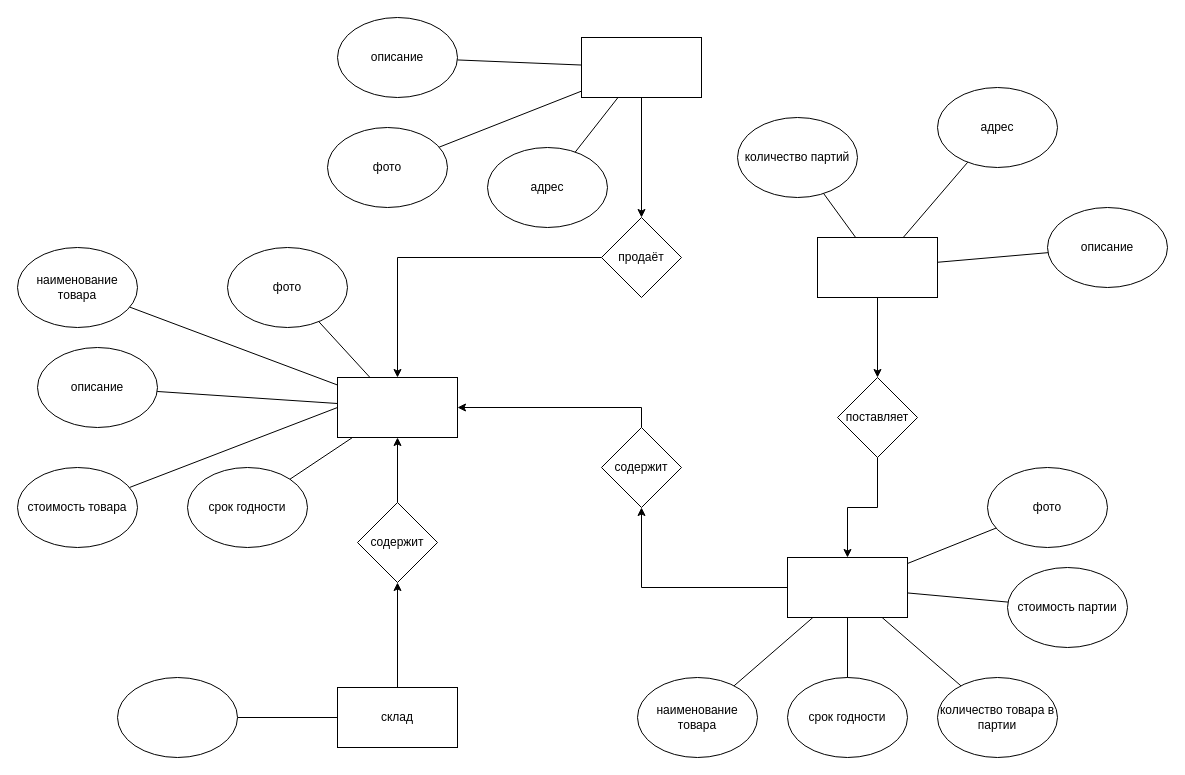
Some shapes in this 1185 by 775 pixel diagram are drawn without their labels. Each missing label, with the centre of its shape:
"количество товара" belongs at (x=177, y=717).
"магазин" belongs at (x=641, y=67).
"партия товара" belongs at (x=847, y=587).
"поставщик" belongs at (x=877, y=267).
"товар" belongs at (x=397, y=407).
